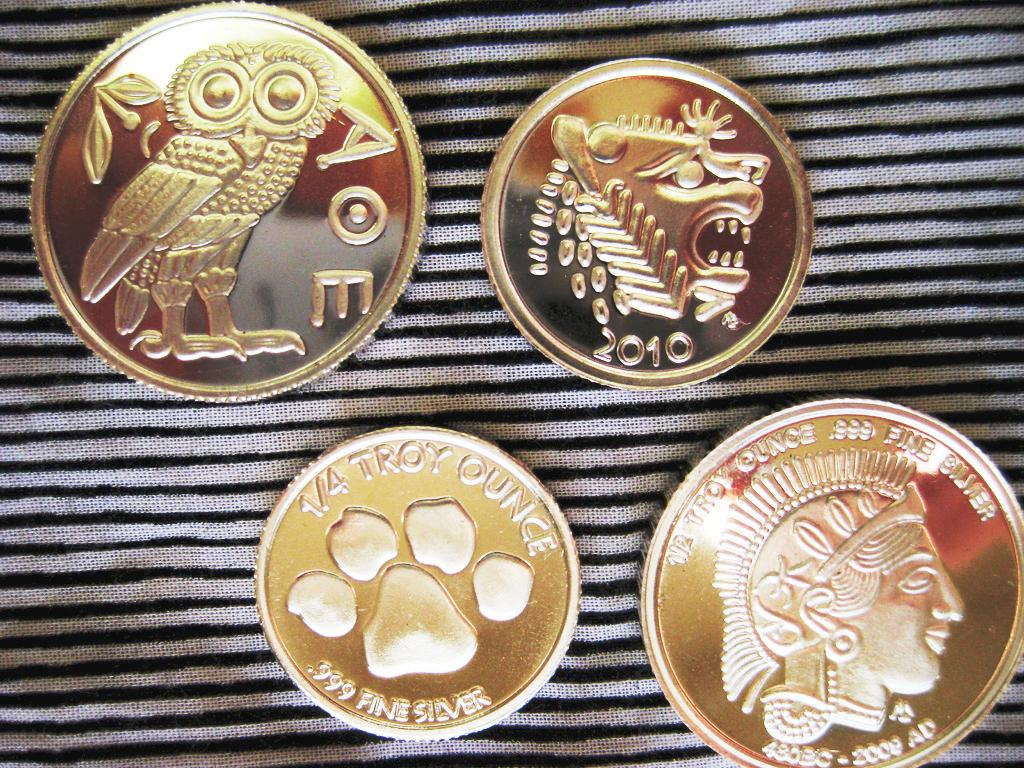Owl: (74, 39, 342, 364)
